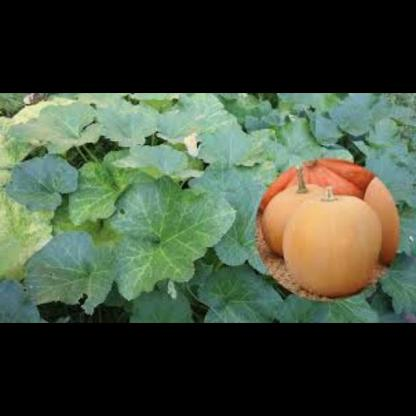pumpkin: (281, 190, 385, 290), (260, 149, 369, 214), (253, 171, 327, 254)
